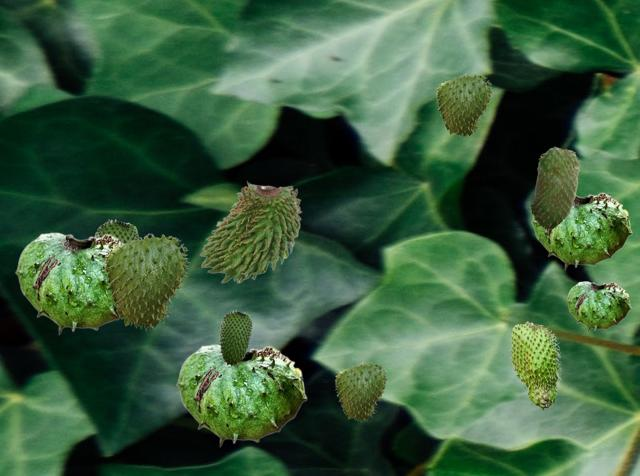guyabano: (176, 344, 306, 446), (15, 232, 123, 334), (199, 180, 301, 282), (104, 233, 189, 330), (531, 192, 631, 269), (509, 321, 561, 409), (530, 146, 579, 229), (436, 73, 492, 137), (566, 281, 630, 331), (335, 362, 387, 421), (219, 310, 251, 365), (94, 219, 138, 242)
